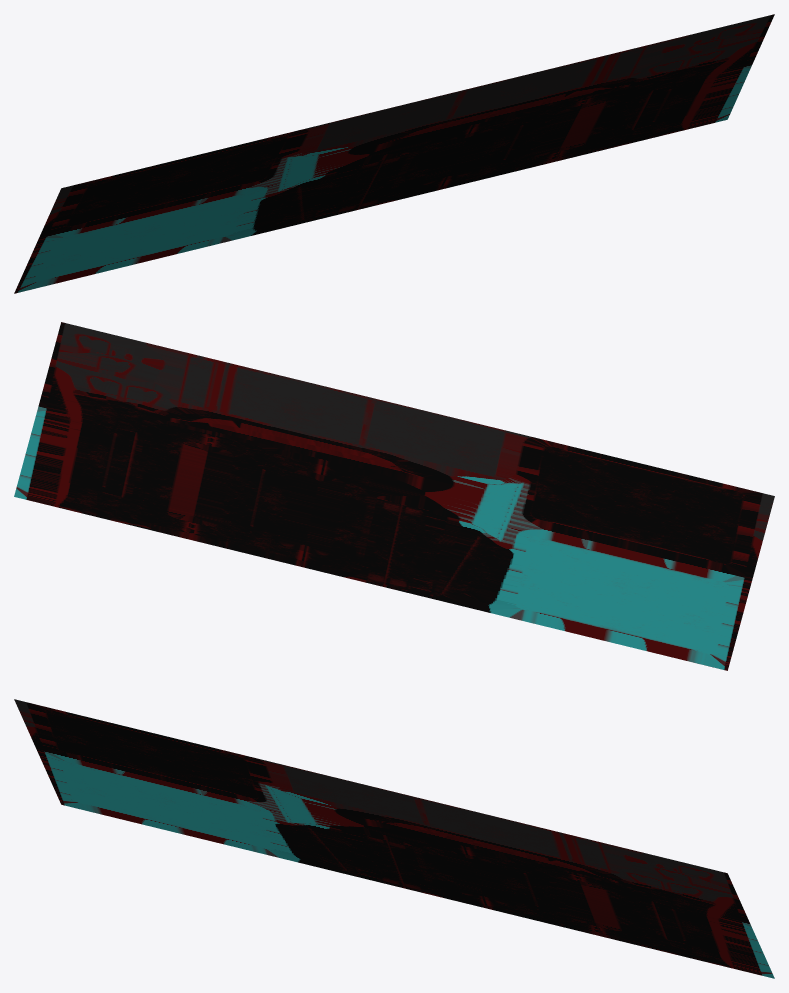
File: PDAWaveCounter.fbx
The picture shows the model from 3 angles, top to bottom: view 1: azimuth 30°, elevation 25°; view 2: azimuth 150°, elevation 25°; view 3: azimuth 330°, elevation 25°; orthographic projection.
Visible parts, largest first — view 1: polySurface20; view 2: polySurface20; view 3: polySurface20.
Part boxes in pixels (x1=…): polySurface20: x1=14, y1=14, x2=774, y2=293; polySurface20: x1=14, y1=322, x2=774, y2=670; polySurface20: x1=14, y1=699, x2=774, y2=978.
Size of the model in its own units: 0.1839 by 0.0345 by 0.0211.
Materials: 1 (1 with a texture image).
